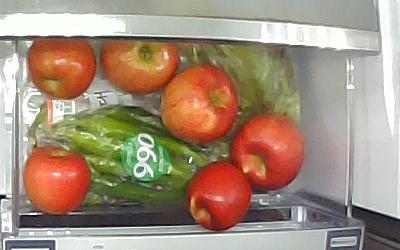apple: (230, 109, 304, 191), (165, 65, 237, 145), (23, 145, 91, 217), (185, 161, 252, 232), (99, 39, 181, 96), (27, 40, 97, 99)
